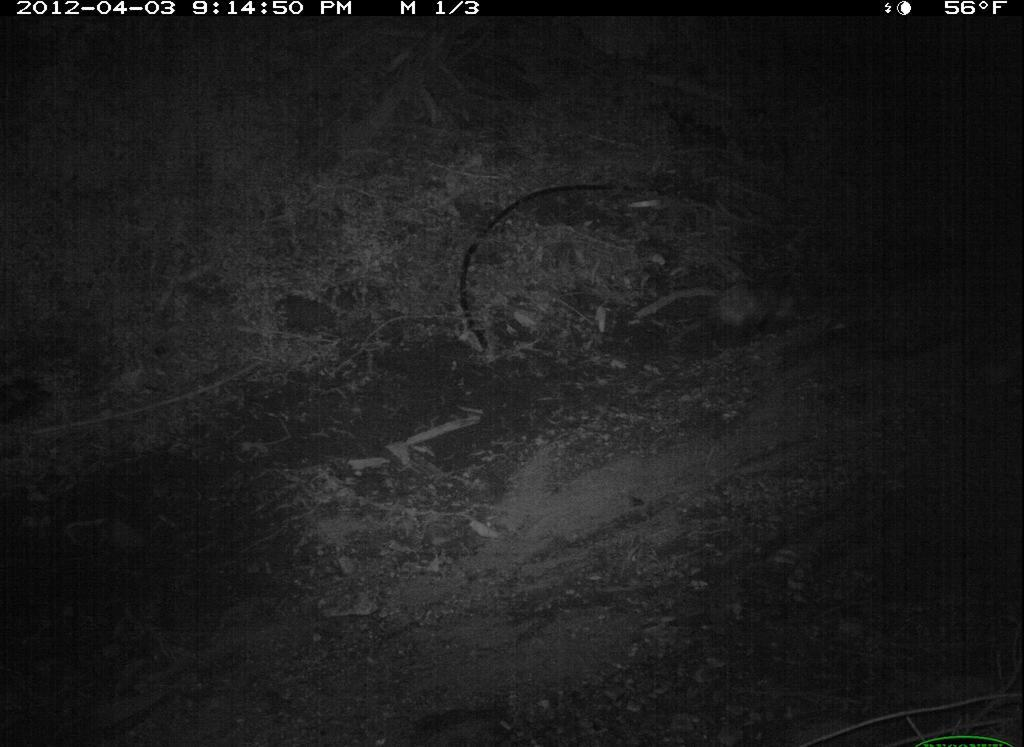opossum: (661, 269, 816, 351)
